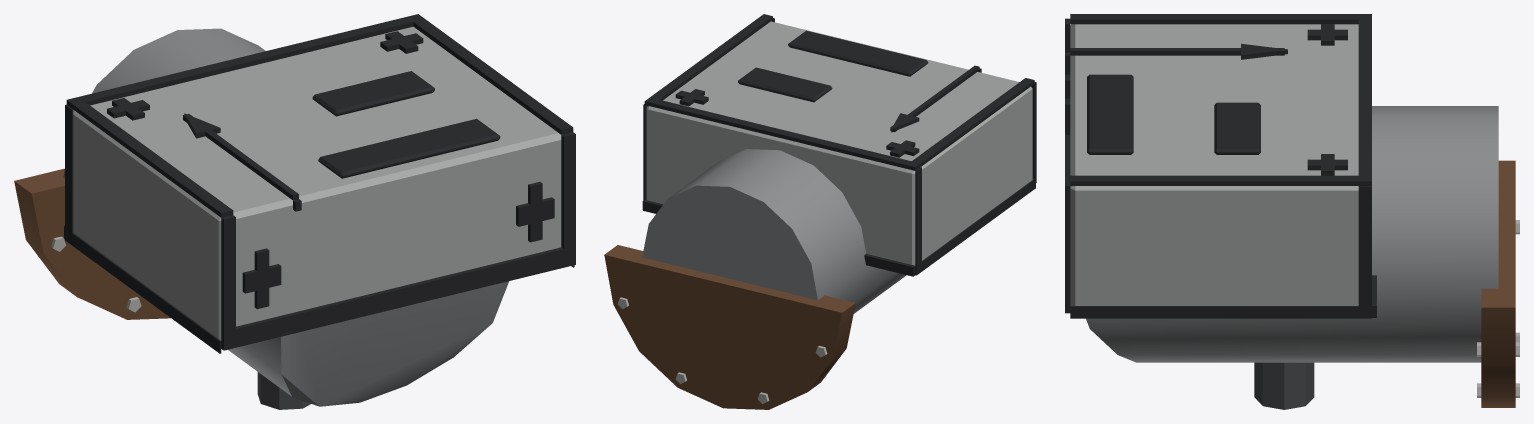
File: overflow-valve.glb
3 renders of one model, left to right at view 1: azimuth 30°, elevation 25°; view 2: azimuth 150°, elevation 25°; view 3: azimuth 270°, elevation 25°, orthographic. The views are drawn at different scales.
Parts seen in each view (by area): view 1: body; view 2: body; view 3: body.
Part boxes in pixels (box(x1,y1,x2,y2)): body: box(14, 14, 575, 409); body: box(604, 14, 1036, 409); body: box(1065, 14, 1519, 409).
Bounding box in the file's own units: 0.932 × 0.776 × 1.06.
